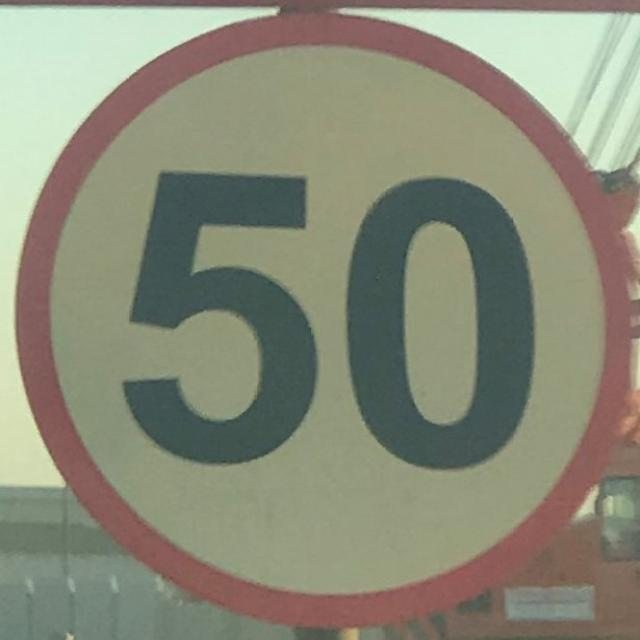Limite-50: (11, 7, 633, 628)
